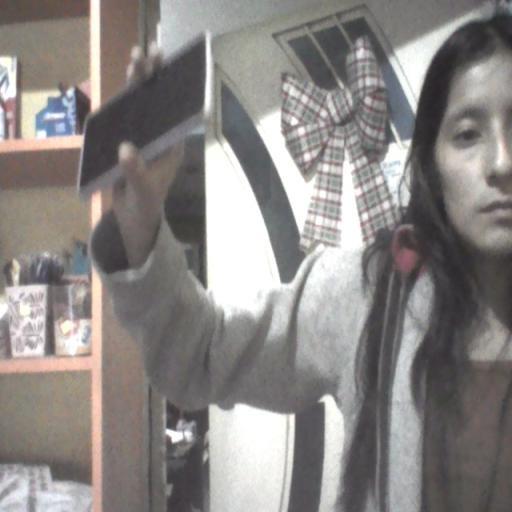phone: (72, 20, 210, 201)
